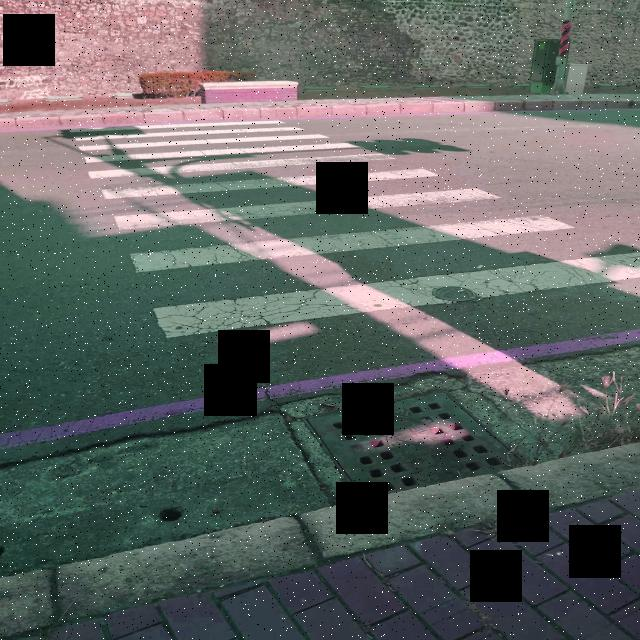zebra_crossing: (0, 0, 160, 313)
